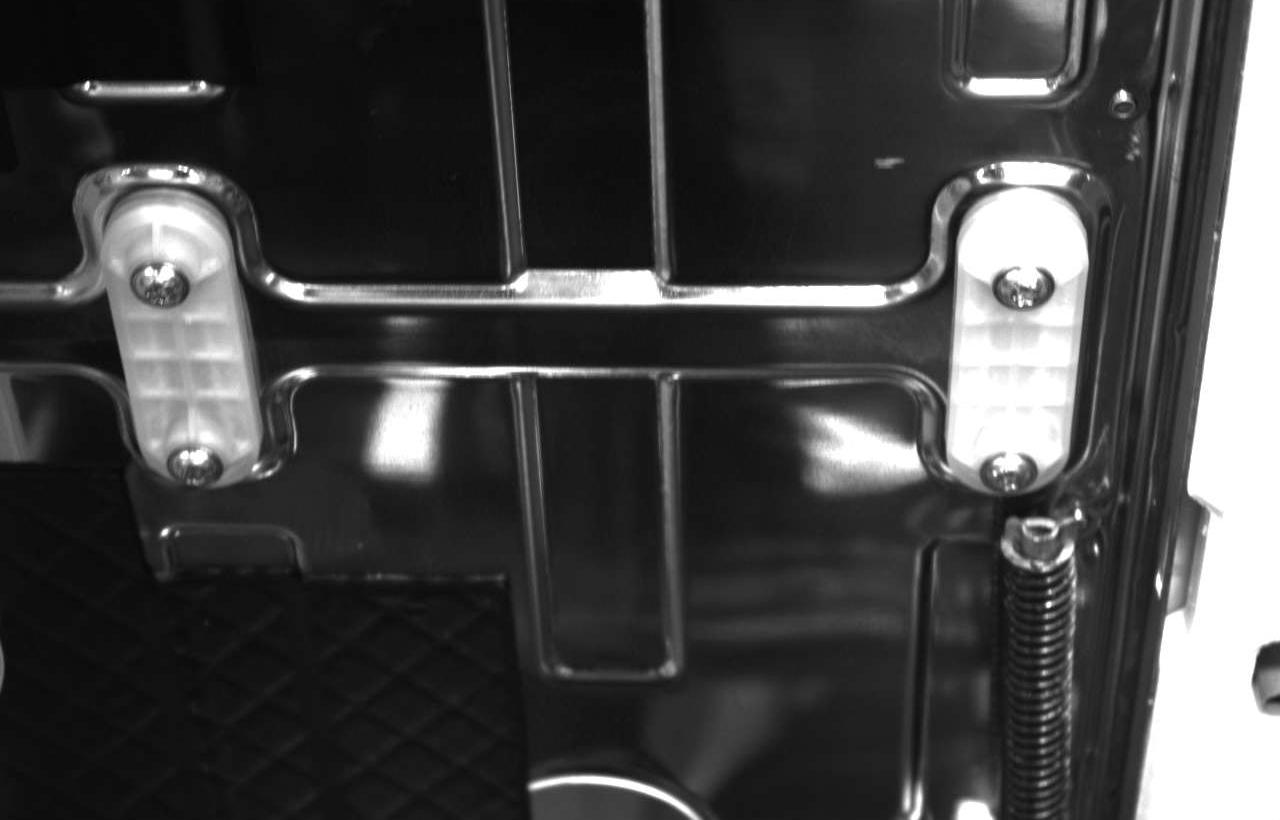vida-ok: (121, 249, 193, 317), (993, 254, 1060, 321), (983, 438, 1049, 497), (163, 434, 229, 492)
